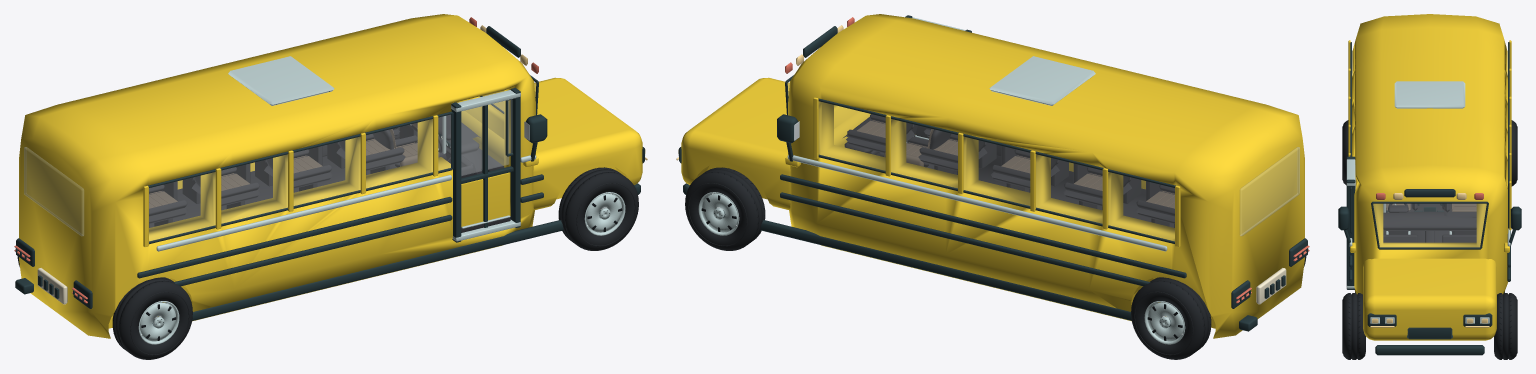
File: schoolbus.glb
3 views of the same model, side by side, from view 1: azimuth 30°, elevation 25°; view 2: azimuth 150°, elevation 25°; view 3: azimuth 270°, elevation 25° (orthographic). The views are drawn at different scales.
Parts seen in each view (by area): view 1: Paint schoolbus, Automotive glass.005, Tyre rubber.005, Rolling wheels.005, Cabin upholstery.005, Wheel hubs.005, Tailored cabin leather.005; view 2: Paint schoolbus, Automotive glass.005, Tyre rubber.005, Rolling wheels.005, Cabin upholstery.005, Wheel hubs.005, Tailored cabin leather.005; view 3: Paint schoolbus, Tyre rubber.005, Automotive glass.005, Rolling wheels.005, Cabin upholstery.005, Wheel hubs.005, Headlamp.005, Tailored cabin leather.005.
Boxes of the visible parts, left/top/right/bottom form: Paint schoolbus: left=19, top=14, right=642, bottom=338; Automotive glass.005: left=24, top=82, right=535, bottom=241; Tyre rubber.005: left=15, top=26, right=644, bottom=326; Rolling wheels.005: left=17, top=167, right=638, bottom=359; Cabin upholstery.005: left=149, top=114, right=510, bottom=232; Wheel hubs.005: left=156, top=56, right=645, bottom=251; Tailored cabin leather.005: left=149, top=123, right=439, bottom=208; Paint schoolbus: left=681, top=14, right=1304, bottom=338; Automotive glass.005: left=788, top=82, right=1299, bottom=241; Tyre rubber.005: left=679, top=15, right=1308, bottom=331; Rolling wheels.005: left=685, top=167, right=1306, bottom=359; Cabin upholstery.005: left=843, top=114, right=1174, bottom=227; Wheel hubs.005: left=678, top=17, right=1167, bottom=251; Tailored cabin leather.005: left=857, top=120, right=1174, bottom=208; Paint schoolbus: left=1348, top=14, right=1511, bottom=340; Tyre rubber.005: left=1338, top=42, right=1521, bottom=355; Automotive glass.005: left=1355, top=175, right=1486, bottom=247; Rolling wheels.005: left=1342, top=120, right=1517, bottom=359; Cabin upholstery.005: left=1383, top=203, right=1476, bottom=242; Wheel hubs.005: left=1346, top=81, right=1510, bottom=323; Headlamp.005: left=1370, top=193, right=1489, bottom=327; Tailored cabin leather.005: left=1386, top=203, right=1476, bottom=211.
Size of the model in its own units: 2.96 by 0.9978 by 1.04.
